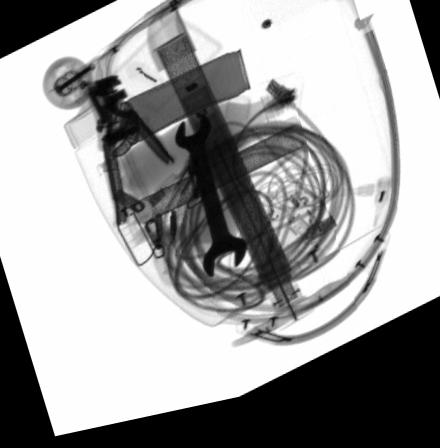Pliers: (82, 78, 177, 231)
Wrench: (175, 121, 246, 285)
